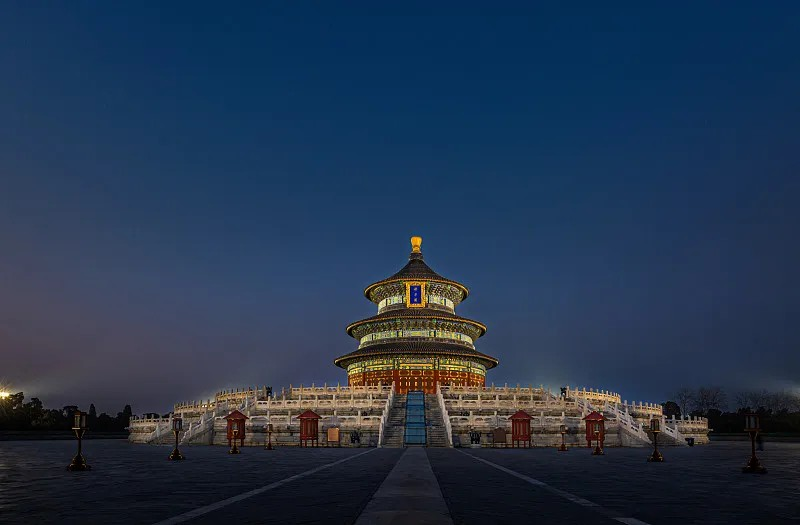Heaven: (335, 234, 498, 392)
